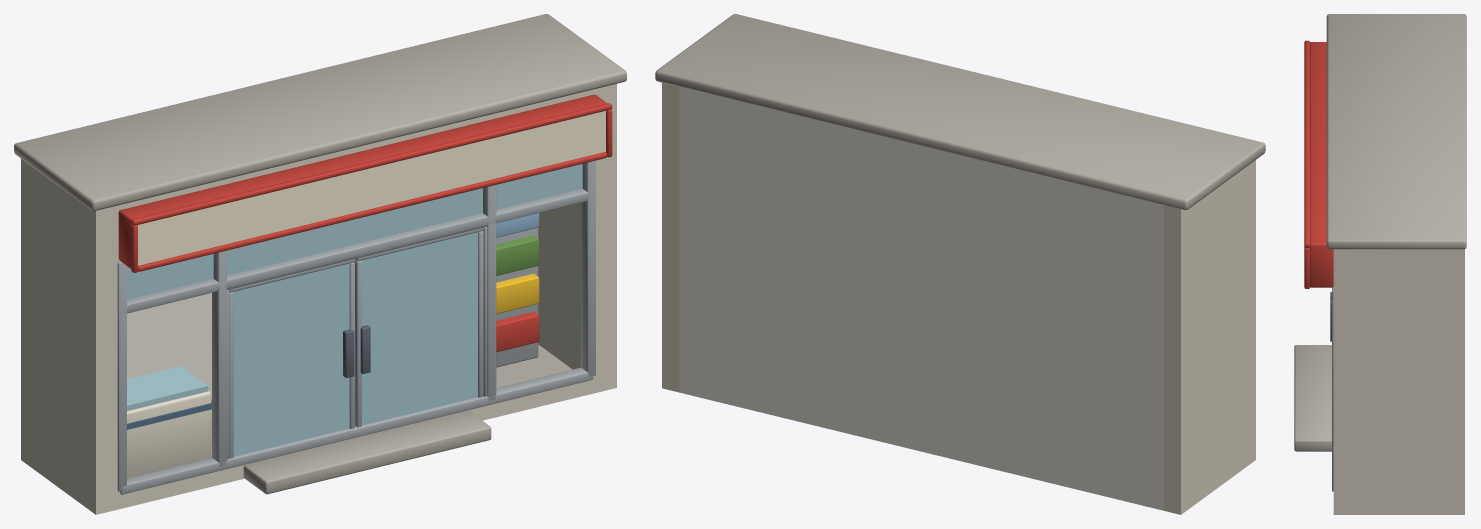
File: supermarket.glb
3 renders of one model, left to right at view 1: azimuth 30°, elevation 25°; view 2: azimuth 150°, elevation 25°; view 3: azimuth 270°, elevation 25°, orthographic. The views are drawn at different scales.
Visible parts, largest first — view 1: supermarket; view 2: supermarket; view 3: supermarket.
Part boxes in pixels (left/top/right/bottom): supermarket: left=14, top=14, right=626, bottom=514; supermarket: left=655, top=14, right=1265, bottom=514; supermarket: left=1294, top=14, right=1466, bottom=514.
Size of the model in its own units: 6.16 by 3.5 by 1.97.
